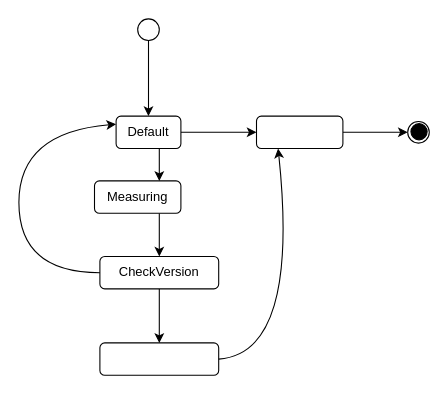
This 448x394 diagram has some shape labels left out. The box of each missing label's shape, as (x1, y1, x2, y2) in pixels:
DownloadUpdate: (99, 342, 219, 375)
Shutdown: (255, 115, 343, 148)
